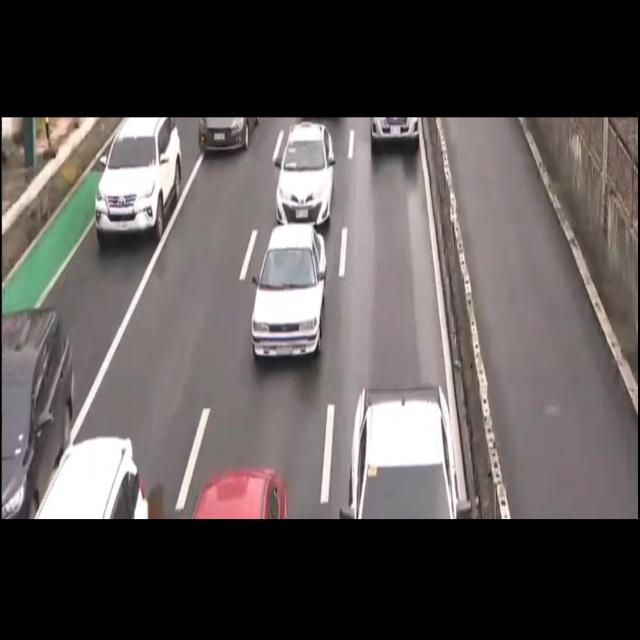SUV: (338, 379, 460, 522), (0, 302, 76, 526), (92, 120, 186, 240), (29, 428, 146, 522)
Sedan: (246, 222, 332, 366), (268, 123, 346, 227)
